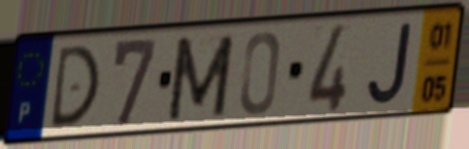0: (237, 28, 283, 118)
4: (306, 20, 351, 116)
7: (110, 36, 160, 128)
D: (47, 41, 103, 132)
J: (364, 19, 415, 108)
M: (163, 32, 237, 124)
